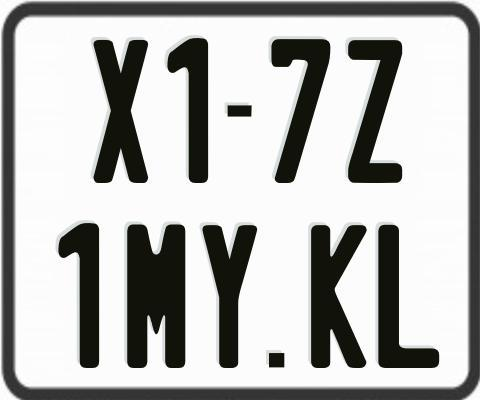1: (55, 220, 102, 365), (165, 38, 208, 187)
7: (269, 39, 332, 188)
K: (310, 222, 371, 369)
L: (375, 223, 441, 367)
M: (127, 223, 191, 369)
X: (90, 39, 150, 183)
Y: (200, 224, 255, 369)
Z: (348, 38, 402, 184)
